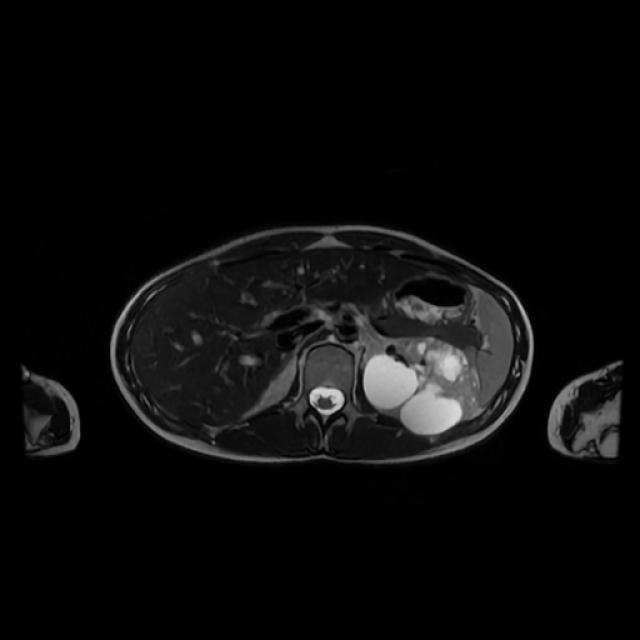sol: (363, 337, 482, 434)
